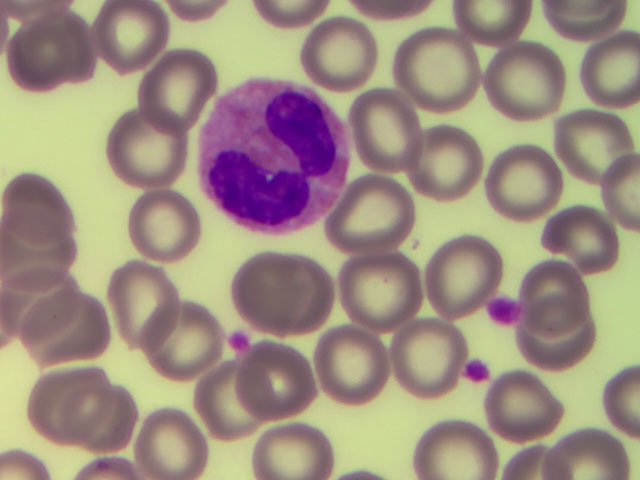Platelets: (491, 293, 524, 325), (462, 359, 493, 385), (228, 331, 250, 351)
RBC: (254, 414, 338, 480), (5, 17, 76, 93), (99, 2, 170, 78), (138, 49, 209, 125), (109, 109, 180, 185), (133, 184, 204, 260), (111, 272, 182, 348), (27, 292, 98, 368), (4, 253, 75, 329), (9, 184, 80, 260), (151, 301, 222, 377), (30, 367, 101, 443), (76, 379, 147, 455), (143, 404, 214, 480), (200, 368, 271, 444), (237, 343, 308, 419), (318, 327, 389, 403), (228, 255, 299, 331), (271, 257, 342, 333), (348, 253, 419, 329), (337, 182, 408, 258), (357, 86, 428, 162), (301, 16, 372, 92), (406, 30, 477, 106), (484, 38, 555, 114), (410, 130, 481, 206), (485, 141, 556, 217), (424, 234, 495, 310), (390, 322, 461, 398), (486, 374, 557, 450), (523, 307, 594, 383), (527, 253, 598, 329), (550, 200, 621, 276), (560, 107, 631, 183), (569, 36, 640, 112), (556, 404, 627, 480), (417, 404, 488, 480), (455, 1, 532, 45)
WBC: (199, 80, 351, 234)
